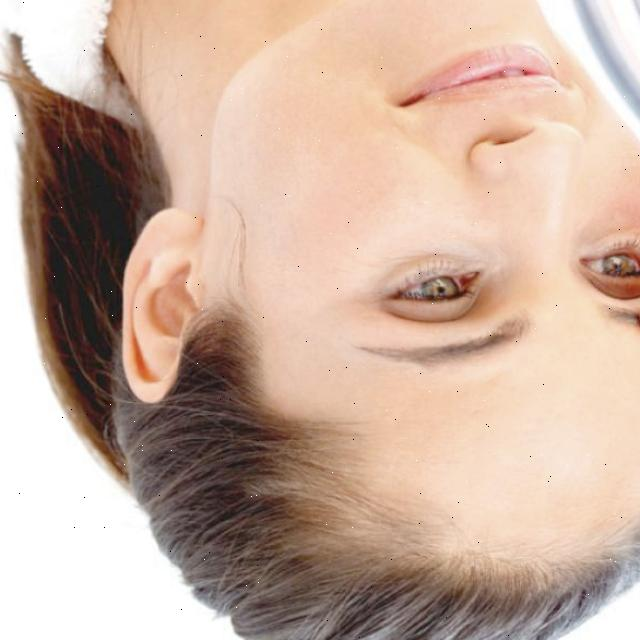puffy_eyes: (372, 238, 490, 286), (574, 213, 640, 248)
